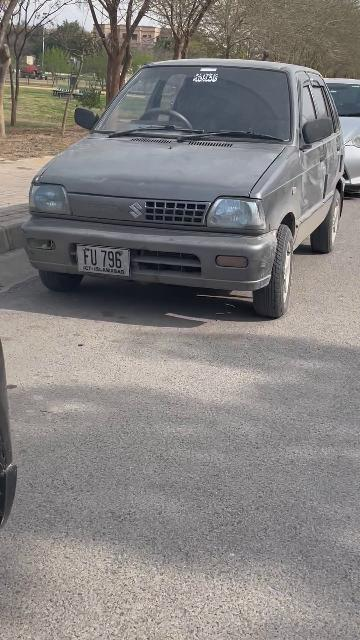plate: (76, 244, 130, 276)
